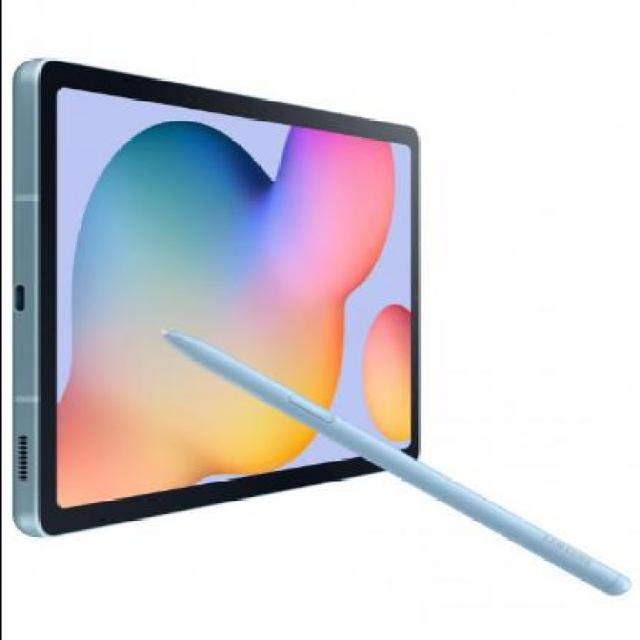smart phone: (0, 70, 417, 520)
